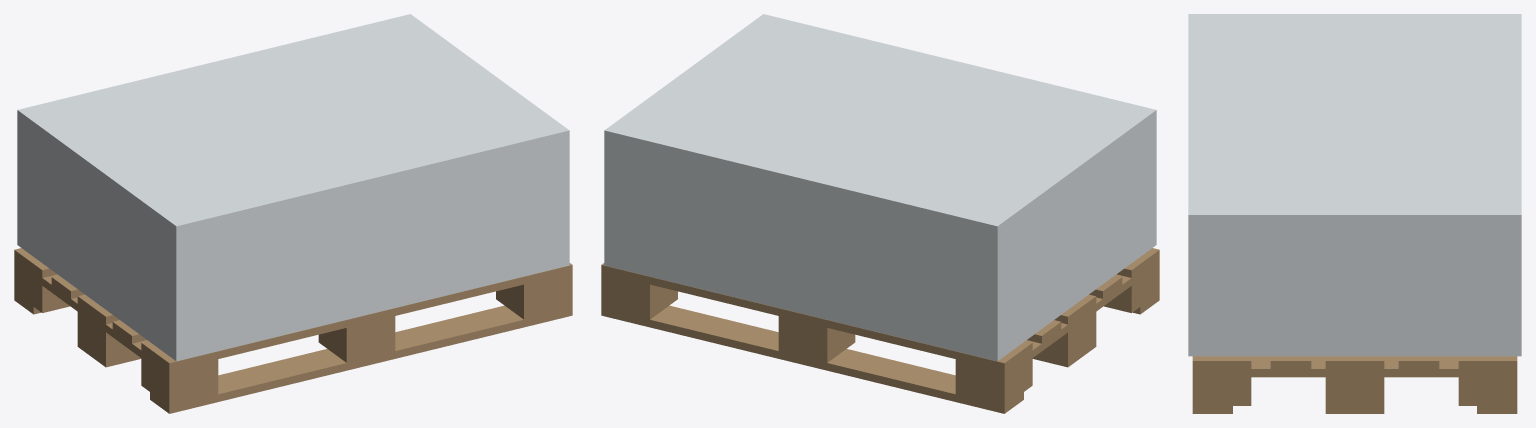
File: SM_BrickPallet.fbx
3 views of the same model, side by side, from view 1: azimuth 30°, elevation 25°; view 2: azimuth 150°, elevation 25°; view 3: azimuth 270°, elevation 25° (orthographic). The views are drawn at different scales.
Visible parts, largest first — view 1: BP_Wrap, BP_PalletBricks; view 2: BP_Wrap, BP_PalletBricks; view 3: BP_Wrap, BP_PalletBricks.
Part boxes in pixels (box(x1,y1,x2,y2)): BP_Wrap: box(17, 14, 569, 361); BP_PalletBricks: box(14, 248, 572, 413); BP_Wrap: box(604, 14, 1156, 361); BP_PalletBricks: box(601, 248, 1159, 413); BP_Wrap: box(1188, 14, 1521, 356); BP_PalletBricks: box(1192, 356, 1517, 413).
Bounding box in the file's own units: 120 × 53.4 × 82.
